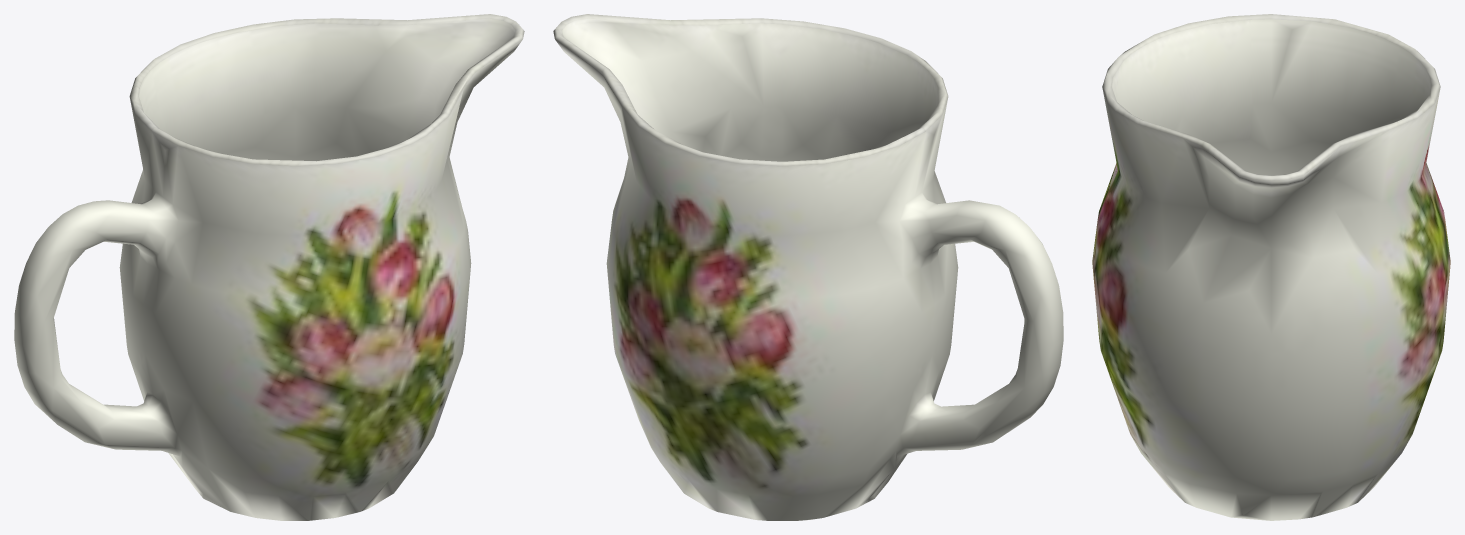
The model's file is ph_jug.glb.
The picture shows the model from 3 angles, left to right: view 1: azimuth 30°, elevation 25°; view 2: azimuth 150°, elevation 25°; view 3: azimuth 270°, elevation 25°; orthographic projection. The views are drawn at different scales.
Visible parts, largest first — view 1: jug_01; view 2: jug_01; view 3: jug_01.
Part boxes in pixels (x1,y1,x2,y2): jug_01: (14, 14, 524, 520); jug_01: (553, 14, 1063, 520); jug_01: (1092, 14, 1450, 520).
Size of the model in its own units: 0.275 by 0.2113 by 0.1675.
Materials: 1 (1 with a texture image).
